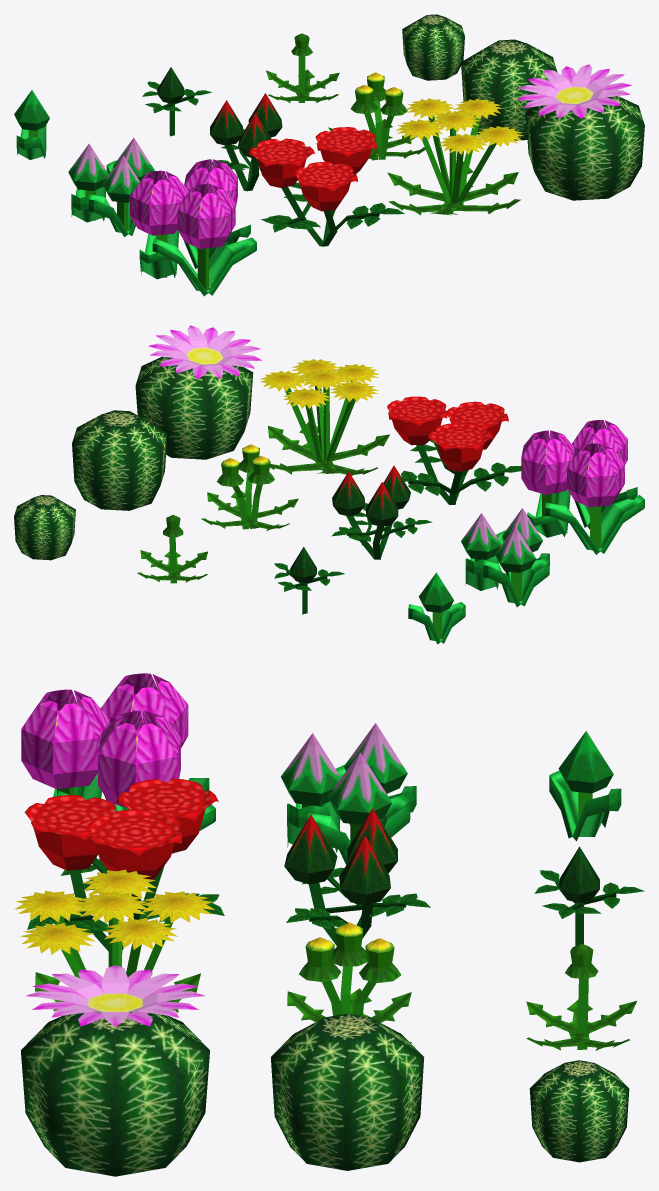
File: FlowersLvl1.fbx
The picture shows the model from 3 angles, top to bottom: view 1: azimuth 30°, elevation 25°; view 2: azimuth 150°, elevation 25°; view 3: azimuth 270°, elevation 25°; orthographic projection. The views are drawn at different scales.
Visible parts, largest first — view 1: Cactus3, Tulip3, Rose3, Dandelion3, Cactus2, Tulip2, Cactus1, Rose2, Dandelion2, Tulip1, Dandelion1, Rose1; view 2: Cactus3, Tulip3, Rose3, Cactus2, Dandelion3, Tulip2, Rose2, Cactus1, Dandelion2, Tulip1, Dandelion1, Rose1; view 3: Cactus3, Cactus2, Tulip3, Rose3, Dandelion3, Tulip2, Rose2, Cactus1, Dandelion2, Tulip1, Dandelion1, Rose1.
Part boxes in pixels (<box>): Cactus3: <box>516,64,644,200</box>; Tulip3: <box>130,159,256,296</box>; Rose3: <box>248,127,404,246</box>; Dandelion3: <box>387,98,523,215</box>; Cactus2: <box>461,39,557,140</box>; Tulip2: <box>68,137,154,236</box>; Cactus1: <box>402,14,464,80</box>; Rose2: <box>210,93,282,191</box>; Dandelion2: <box>328,72,425,160</box>; Tulip1: <box>14,90,49,159</box>; Dandelion1: <box>266,33,339,102</box>; Rose1: <box>142,67,211,136</box>; Cactus3: <box>135,325,261,459</box>; Tulip3: <box>521,420,644,554</box>; Rose3: <box>383,396,521,504</box>; Cactus2: <box>72,410,167,510</box>; Dandelion3: <box>260,359,389,475</box>; Tulip2: <box>461,508,549,606</box>; Rose2: <box>332,465,432,559</box>; Cactus1: <box>14,495,75,560</box>; Dandelion2: <box>201,444,298,530</box>; Tulip1: <box>408,572,465,644</box>; Dandelion1: <box>137,514,207,583</box>; Rose1: <box>274,547,344,614</box>; Cactus3: <box>20,965,209,1176</box>; Cactus2: <box>271,1013,424,1170</box>; Tulip3: <box>21,673,215,830</box>; Rose3: <box>24,778,224,951</box>; Dandelion3: <box>14,869,214,1040</box>; Tulip2: <box>281,723,416,864</box>; Rose2: <box>284,808,430,945</box>; Cactus1: <box>529,1060,629,1162</box>; Dandelion2: <box>287,922,411,1043</box>; Tulip1: <box>549,731,621,841</box>; Dandelion1: <box>526,943,636,1050</box>; Rose1: <box>534,846,644,945</box>.
Bounding box in the file's own units: 384 × 73.63 × 272.
